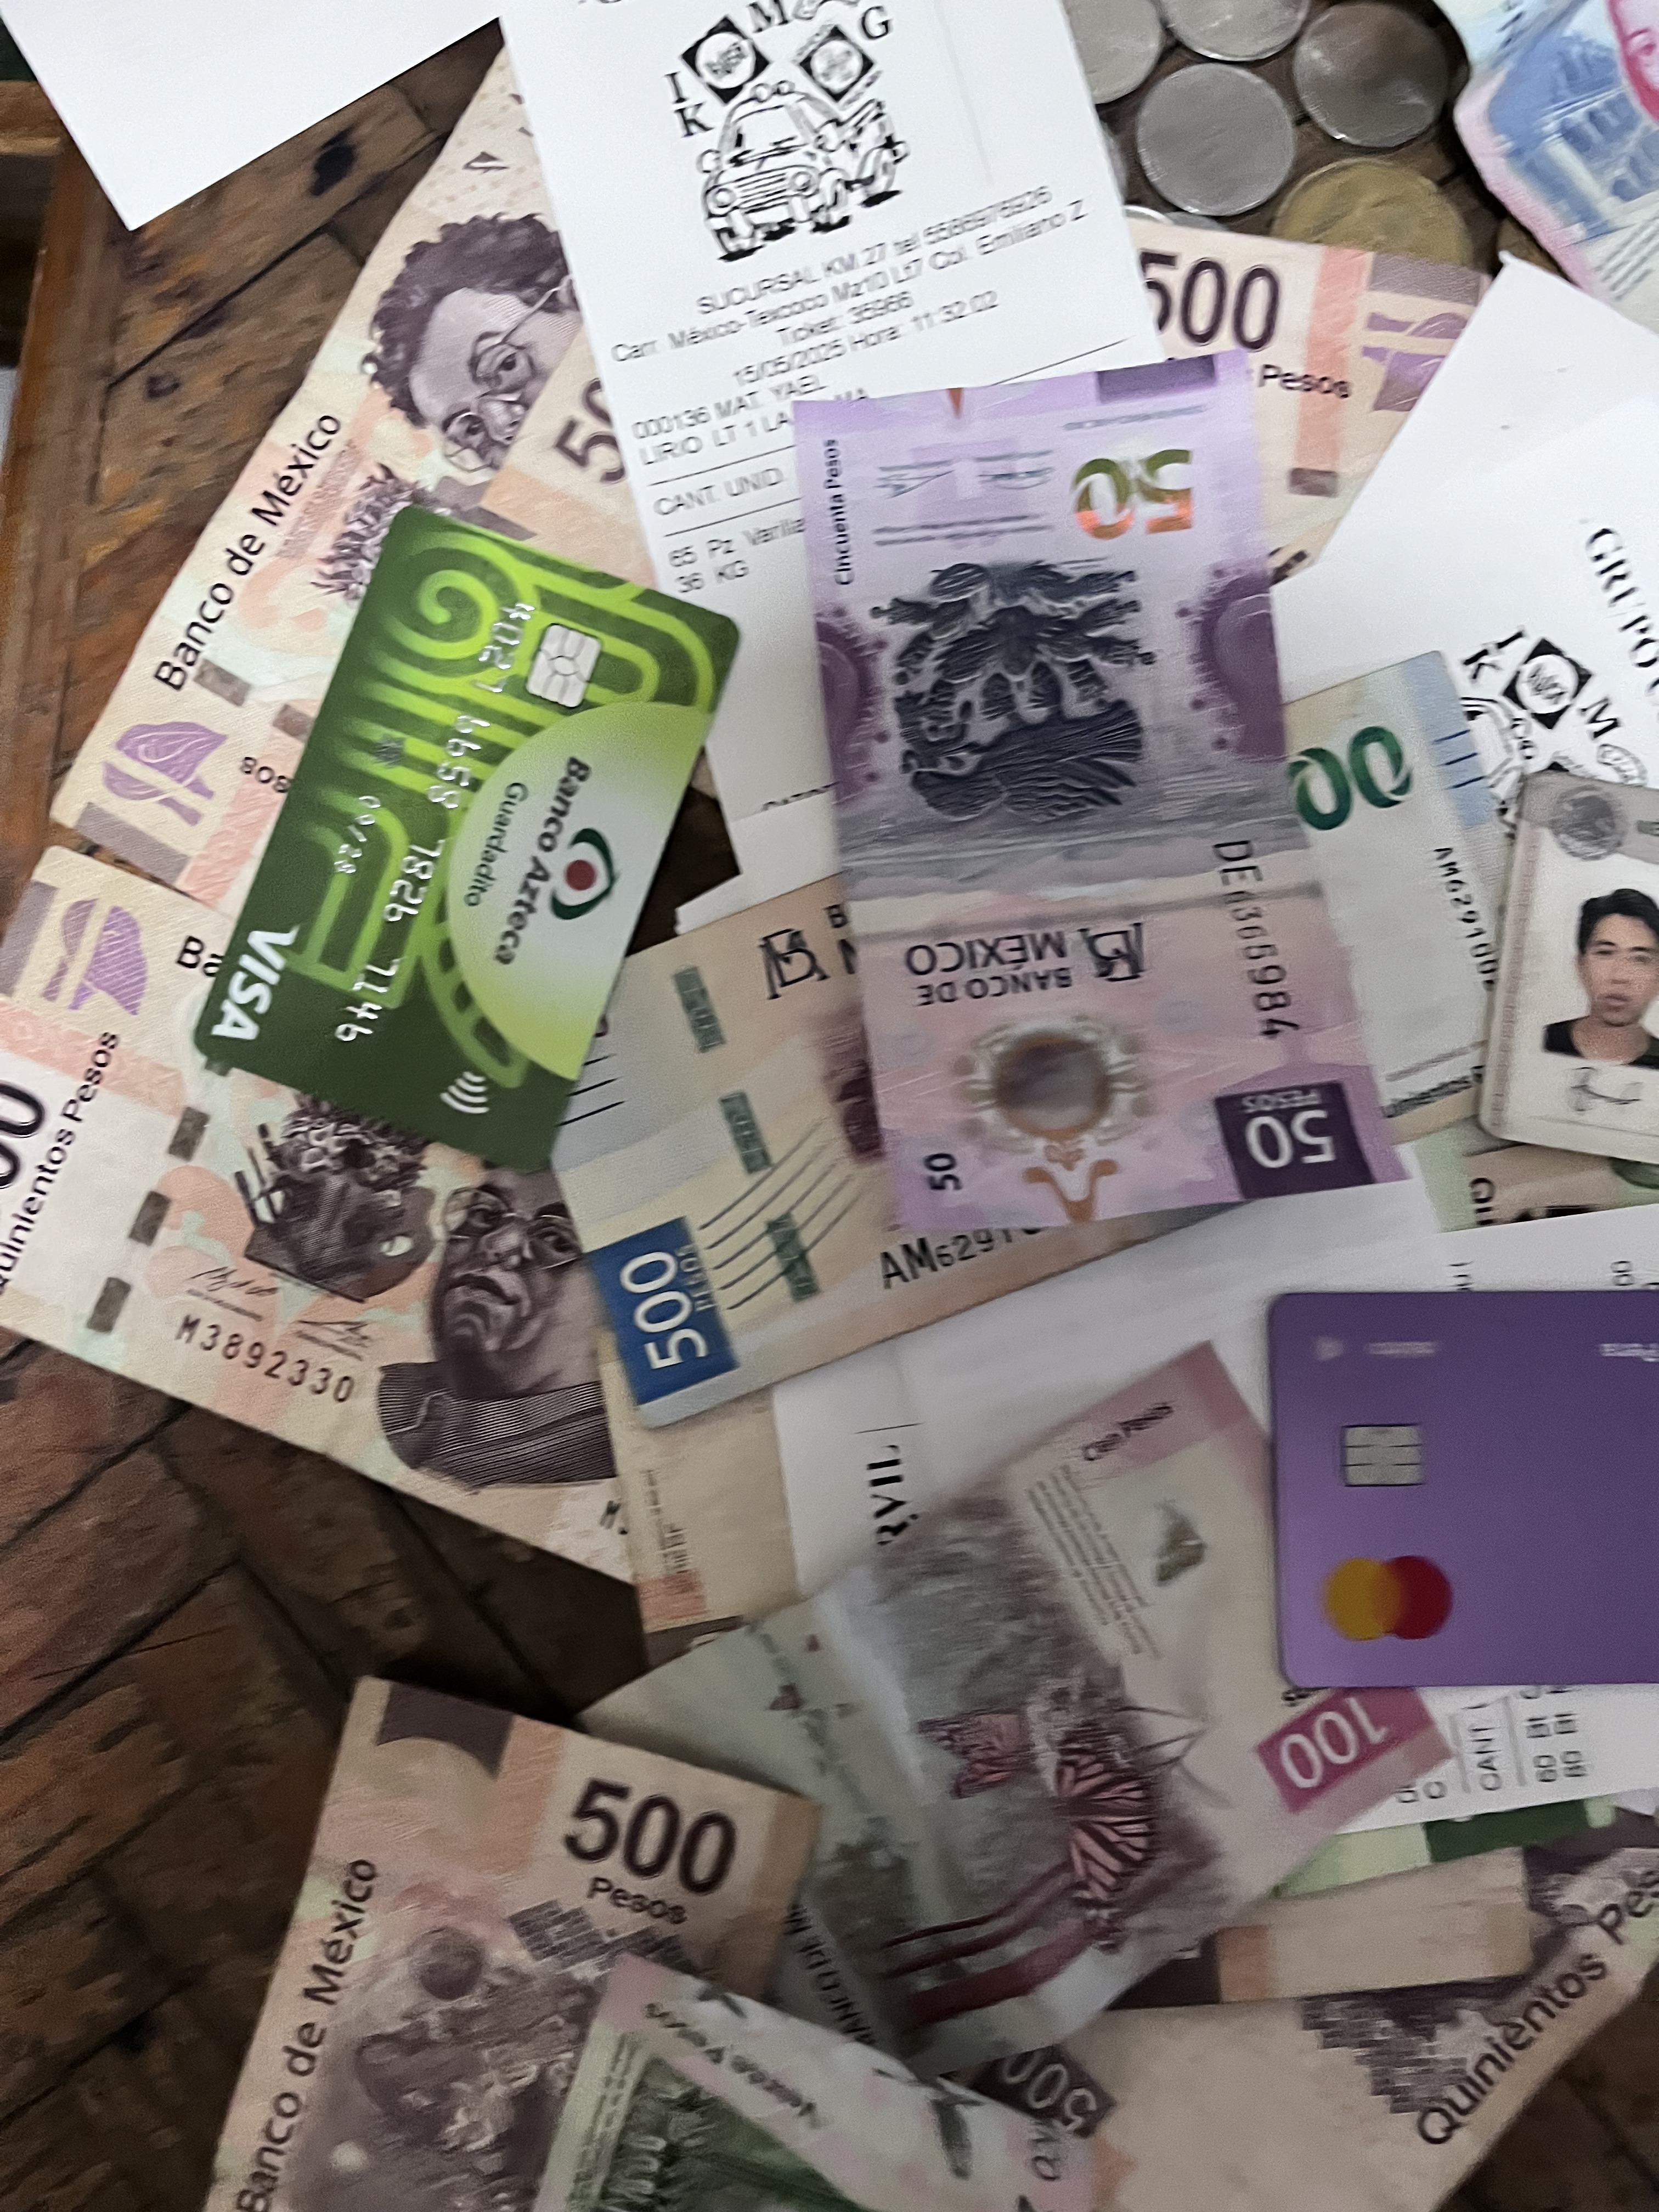100: (549, 1346, 1473, 2083)
20: (535, 1951, 1138, 2212)
50: (775, 359, 1483, 1271)
500: (10, 9, 674, 991), (3, 829, 739, 1667), (101, 1649, 803, 2212), (913, 1775, 1659, 2212), (1018, 225, 1567, 585), (474, 253, 760, 679)
500 nuevo: (558, 599, 1556, 1449)
